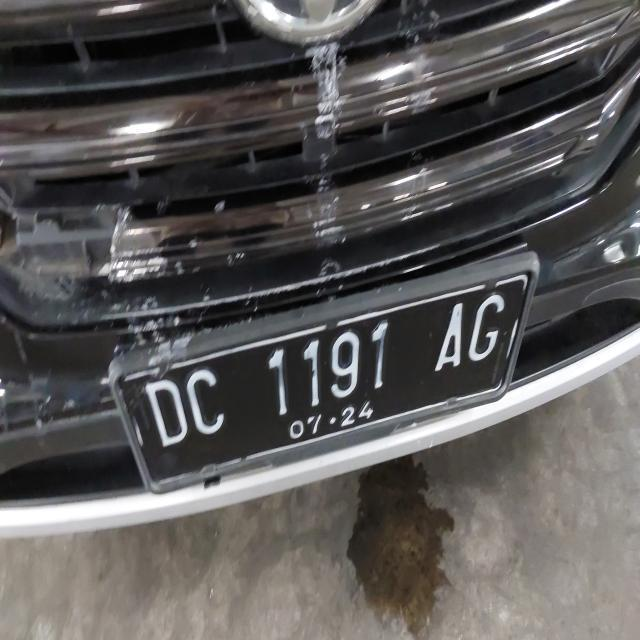1: (362, 321, 402, 401), (264, 352, 298, 418), (298, 342, 328, 409)
9: (328, 334, 363, 394)
A: (436, 297, 466, 378)
C: (179, 369, 232, 440)
D: (140, 382, 188, 460)
G: (468, 287, 508, 383)
